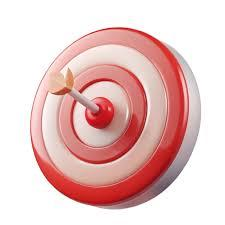target_red: (29, 26, 201, 209)
